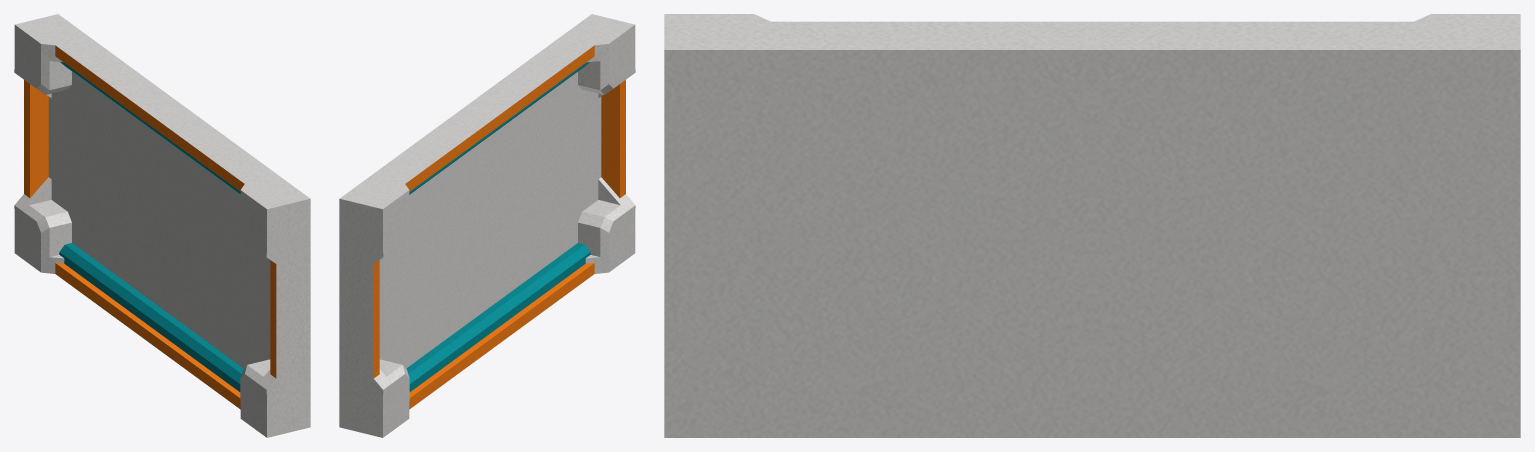
Rendered from Wall_1_Half.fbx.
The picture shows the model from 3 angles, left to right: view 1: azimuth 30°, elevation 25°; view 2: azimuth 150°, elevation 25°; view 3: azimuth 270°, elevation 25°; orthographic projection. The views are drawn at different scales.
Visible parts, largest first — view 1: Wall_1_Half; view 2: Wall_1_Half; view 3: Wall_1_Half.
Part boxes in pixels (x1=…): Wall_1_Half: x1=14, y1=14, x2=310, y2=437; Wall_1_Half: x1=339, y1=14, x2=635, y2=437; Wall_1_Half: x1=664, y1=14, x2=1520, y2=437.
Bounding box in the file's own units: 20 × 100 × 200.
